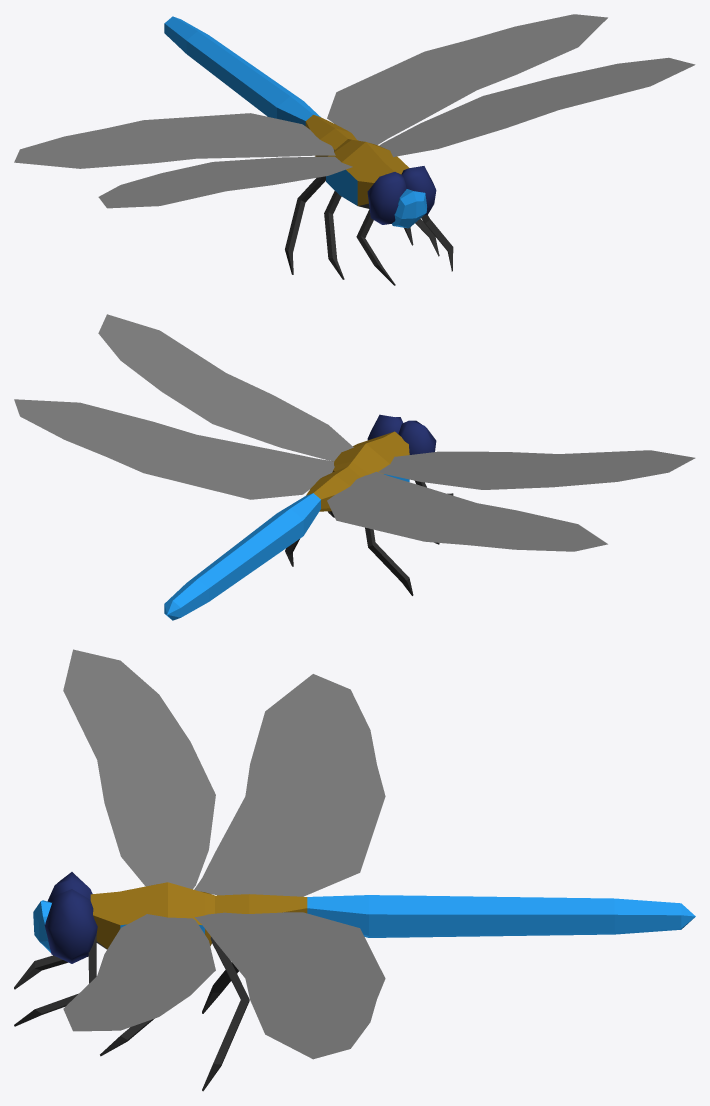
File: Mesh_Dragonfly.obj
3 views of the same model, one above another, from view 1: azimuth 30°, elevation 25°; view 2: azimuth 150°, elevation 25°; view 3: azimuth 270°, elevation 25° (orthographic). The views are drawn at different scales.
Visible parts, largest first — view 1: Geo_Dragonfly; view 2: Geo_Dragonfly; view 3: Geo_Dragonfly.
Part boxes in pixels (box(x1,y1,x2,y2)): Geo_Dragonfly: box(14, 14, 695, 285); Geo_Dragonfly: box(14, 314, 695, 620); Geo_Dragonfly: box(14, 649, 695, 1091).
Bounding box in the file's own units: 13.33 × 3.42 × 9.96.
2 materials, 1 textured.
